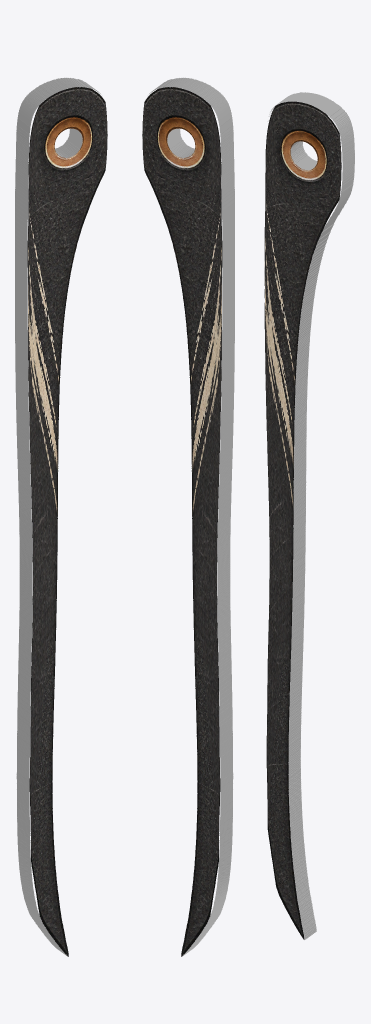
Rendered from LowerLeg.glb.
3 views of the same model, side by side, from view 1: azimuth 30°, elevation 25°; view 2: azimuth 150°, elevation 25°; view 3: azimuth 330°, elevation 25° (orthographic). The views are drawn at different scales.
Parts seen in each view (by area): view 1: PaperVolume; view 2: PaperVolume; view 3: PaperVolume.
Part boxes in pixels (<box>): PaperVolume: <box>15,77,107,956</box>; PaperVolume: <box>142,77,234,956</box>; PaperVolume: <box>264,92,354,939</box>.
Size of the model in its own units: 0.3 by 3.46 by 0.08.
Materials: 3 (2 with a texture image).
